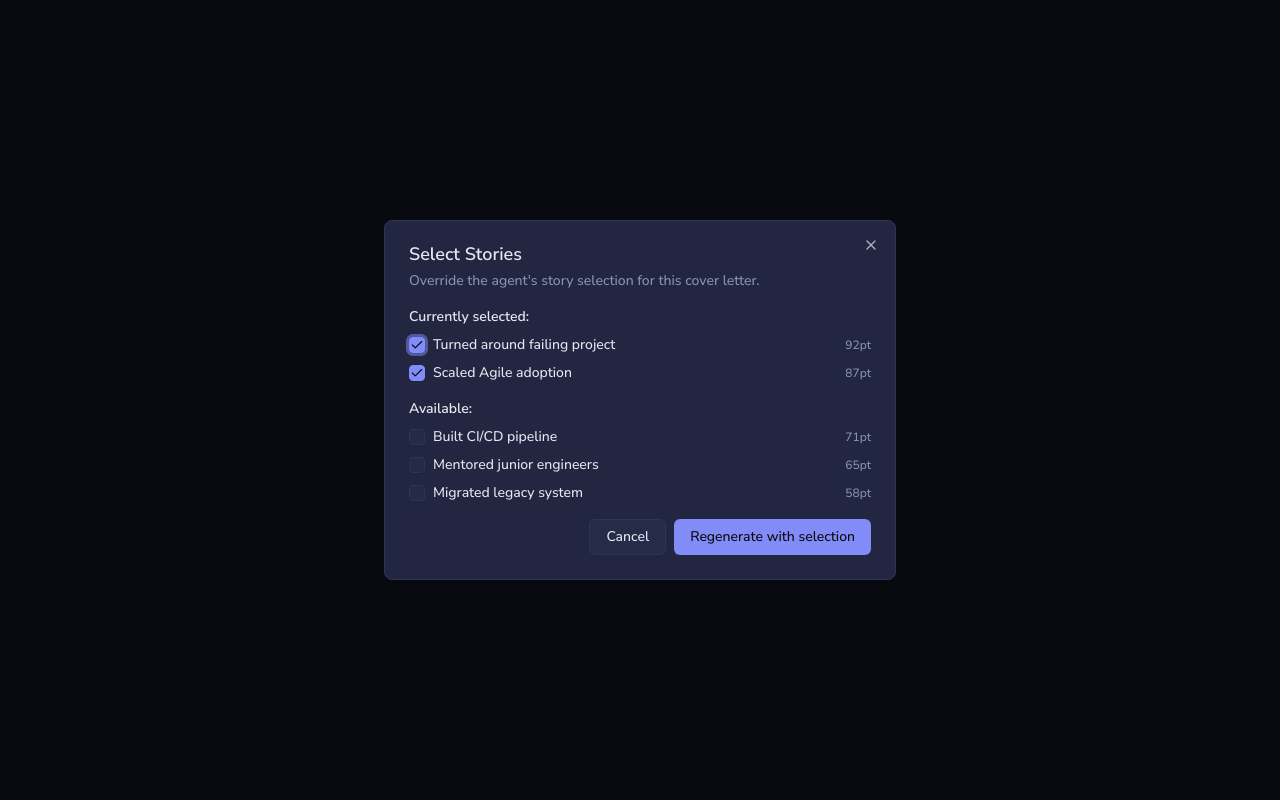
Test: StoryOverrideModal › interaction › unchecking a selected story moves it to available
Uncheck story-1
Click the checkbox next to "Turned around failing project": (417, 345) 409,337 -> 425,353
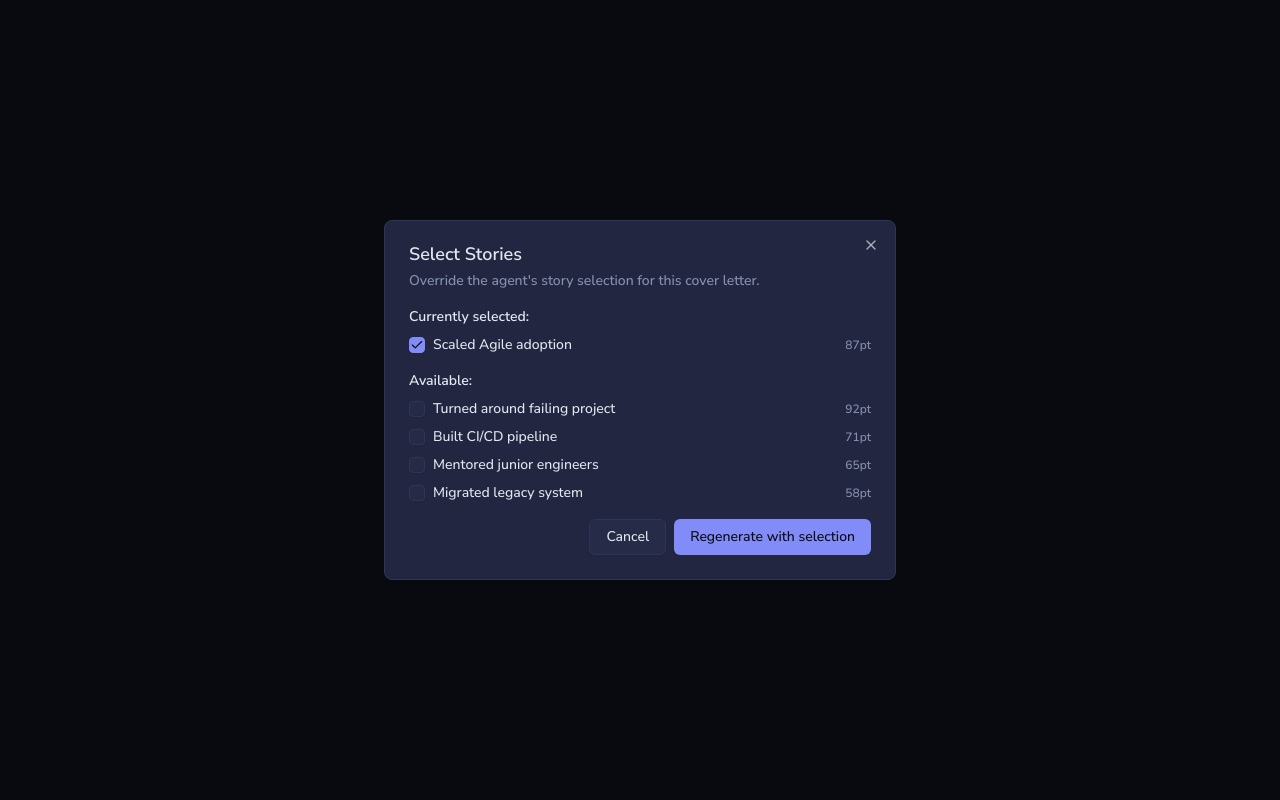
Expected: the text "Turned around failing project" is shown, 433,399 -> 615,418
Now the elements with test id "story-title" read "Scaled Agile adoption", in this order, box 433,335 -> 572,354
